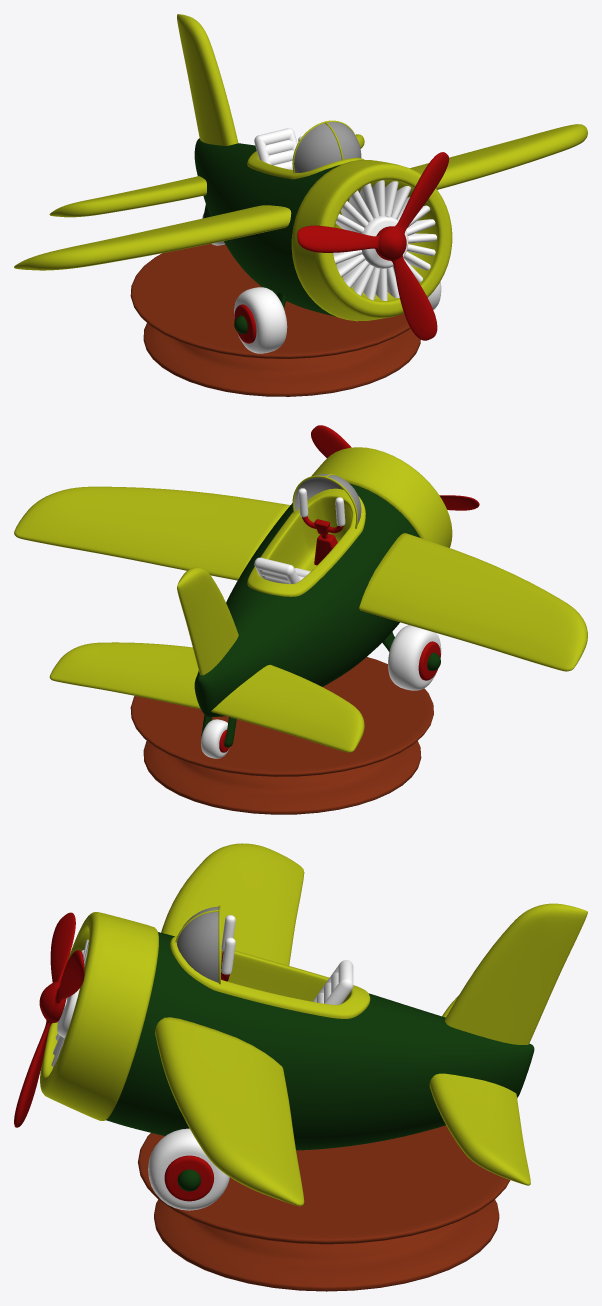
The picture shows the model from 3 angles, top to bottom: view 1: azimuth 30°, elevation 25°; view 2: azimuth 150°, elevation 25°; view 3: azimuth 270°, elevation 25°; orthographic projection. The views are drawn at different scales.
Visible parts, largest first — view 1: Line001, Object005, Loft001, Object013, Object014, Object015, Object003, Object004, Cylinder042, Sphere001, Sphere008, Object016 (+1 smaller); view 2: Object005, Line001, Object013, Object004, Loft001, Object016, Object003, Cylinder042, Object015, Sphere001, Sphere008, Cylinder043 (+3 smaller); view 3: Line001, Object013, Object005, Loft001, Object003, Object004, Object016, Object015, Cylinder042, Sphere001, Object018, Sphere008 (+2 smaller).
Part boxes in pixels (x1=…): Line001: x1=130, y1=243, x2=420, y2=396; Object005: x1=14, y1=124, x2=587, y2=270; Loft001: x1=291, y1=160, x2=452, y2=321; Object013: x1=194, y1=138, x2=340, y2=316; Object014: x1=333, y1=180, x2=436, y2=300; Object015: x1=297, y1=152, x2=449, y2=340; Object003: x1=177, y1=14, x2=238, y2=145; Object004: x1=49, y1=134, x2=364, y2=217; Cylinder042: x1=234, y1=281, x2=441, y2=353; Sphere001: x1=294, y1=122, x2=361, y2=172; Sphere008: x1=254, y1=128, x2=297, y2=169; Object016: x1=247, y1=151, x2=364, y2=179; Object005: x1=14, y1=486, x2=587, y2=671; Line001: x1=130, y1=657, x2=433, y2=814; Object013: x1=194, y1=483, x2=420, y2=717; Object004: x1=49, y1=642, x2=364, y2=752; Loft001: x1=311, y1=447, x2=452, y2=547; Object016: x1=247, y1=488, x2=365, y2=596; Object003: x1=177, y1=567, x2=238, y2=675; Cylinder042: x1=388, y1=625, x2=441, y2=690; Object015: x1=311, y1=425, x2=479, y2=510; Sphere001: x1=294, y1=474, x2=361, y2=524; Sphere008: x1=254, y1=557, x2=300, y2=583; Cylinder043: x1=201, y1=719, x2=229, y2=758; Line001: x1=138, y1=1125, x2=510, y2=1291; Object013: x1=106, y1=932, x2=534, y2=1150; Object005: x1=155, y1=843, x2=304, y2=1206; Loft001: x1=40, y1=912, x2=158, y2=1120; Object003: x1=444, y1=903, x2=587, y2=1044; Object004: x1=429, y1=995, x2=530, y2=1185; Object016: x1=170, y1=936, x2=370, y2=1018; Object015: x1=14, y1=912, x2=84, y2=1127; Cylinder042: x1=148, y1=1128, x2=229, y2=1210; Sphere001: x1=176, y1=906, x2=218, y2=982; Object018: x1=164, y1=1155, x2=214, y2=1201; Sphere008: x1=312, y1=960, x2=353, y2=1004.
Bounding box in the file's own units: 873 × 377 × 623.
